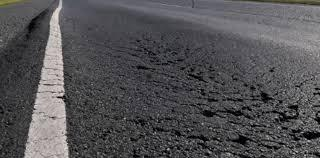alligator-crack: (135, 103, 320, 158), (128, 34, 210, 85), (197, 70, 294, 103), (35, 66, 72, 104)
